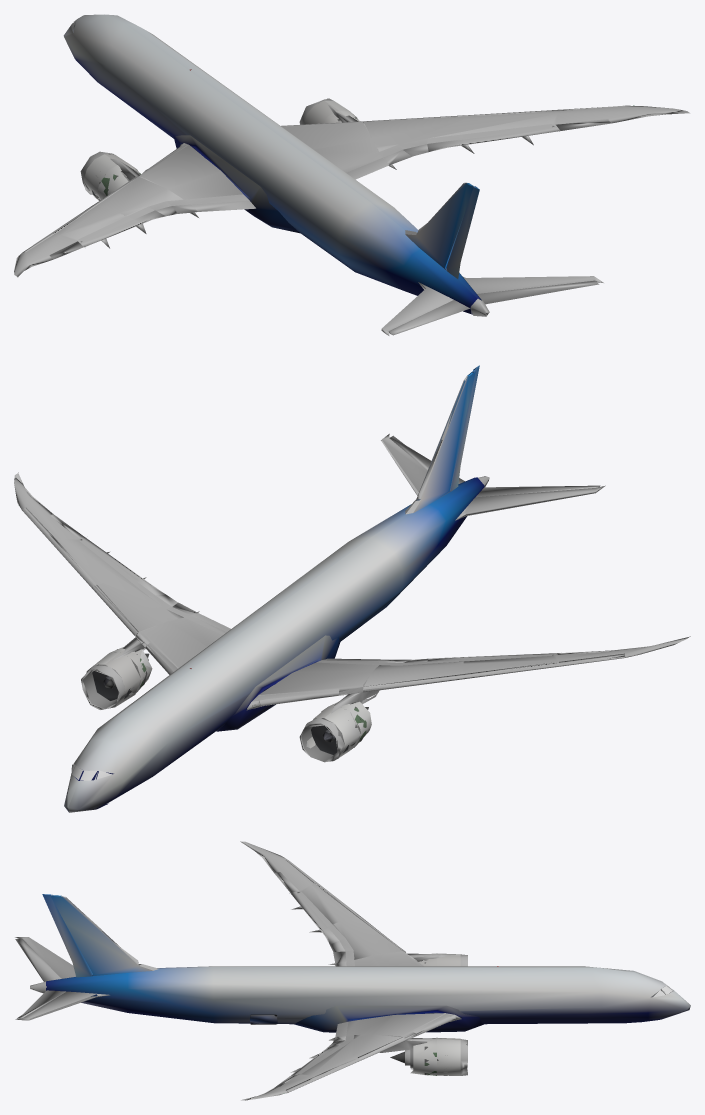
3 renders of one model, top to bottom at view 1: azimuth 30°, elevation 25°; view 2: azimuth 150°, elevation 25°; view 3: azimuth 270°, elevation 25°, orthographic. The views are drawn at different scales.
Size of the model in its own units: 59.6 by 14.91 by 65.87.
